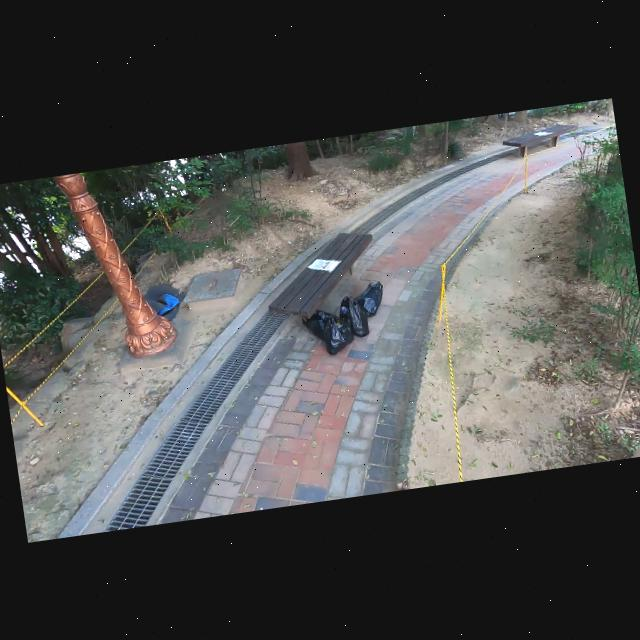trash: (348, 275, 394, 318), (332, 292, 372, 340), (296, 304, 342, 344), (321, 312, 357, 357)
